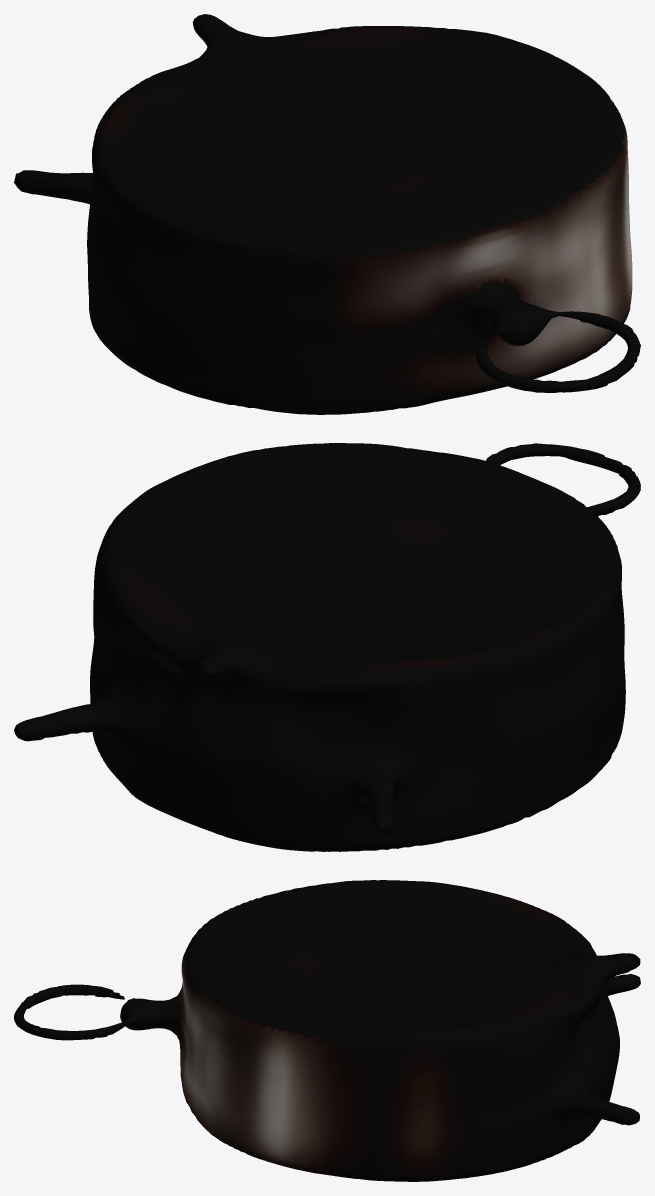
Rendered from alarm.glb.
3 renders of one model, top to bottom at view 1: azimuth 30°, elevation 25°; view 2: azimuth 150°, elevation 25°; view 3: azimuth 270°, elevation 25°, orthographic. The views are drawn at different scales.
Size of the model in its own units: 0.6843 by 0.2746 by 0.9974.
